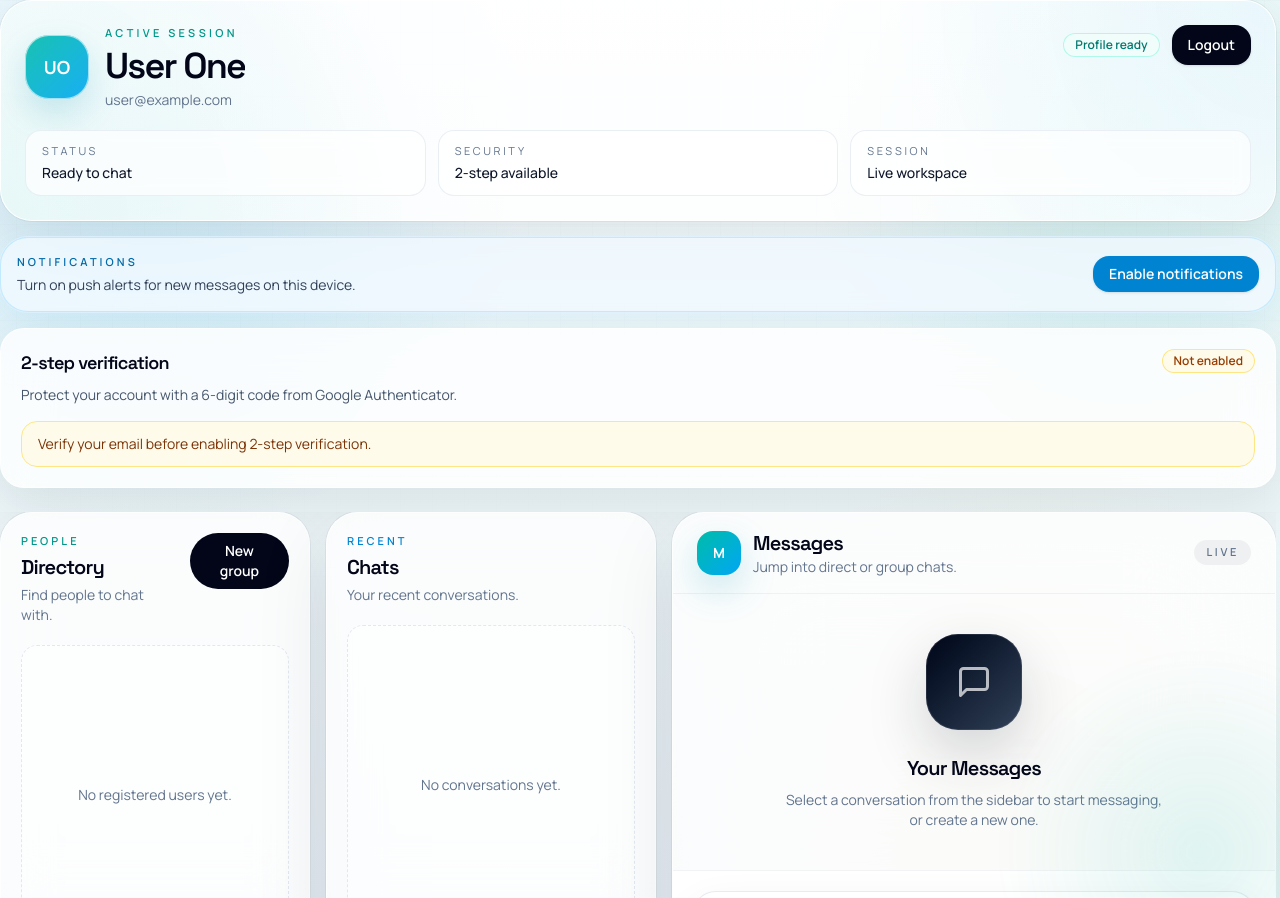
Test case: ChatClient › registers notifications only after the user clicks enable notifications
This screenshot has width=1280, height=898.
Step 1. Click the button "Enable notifications" → [1176, 274], box [1093, 256, 1259, 292]
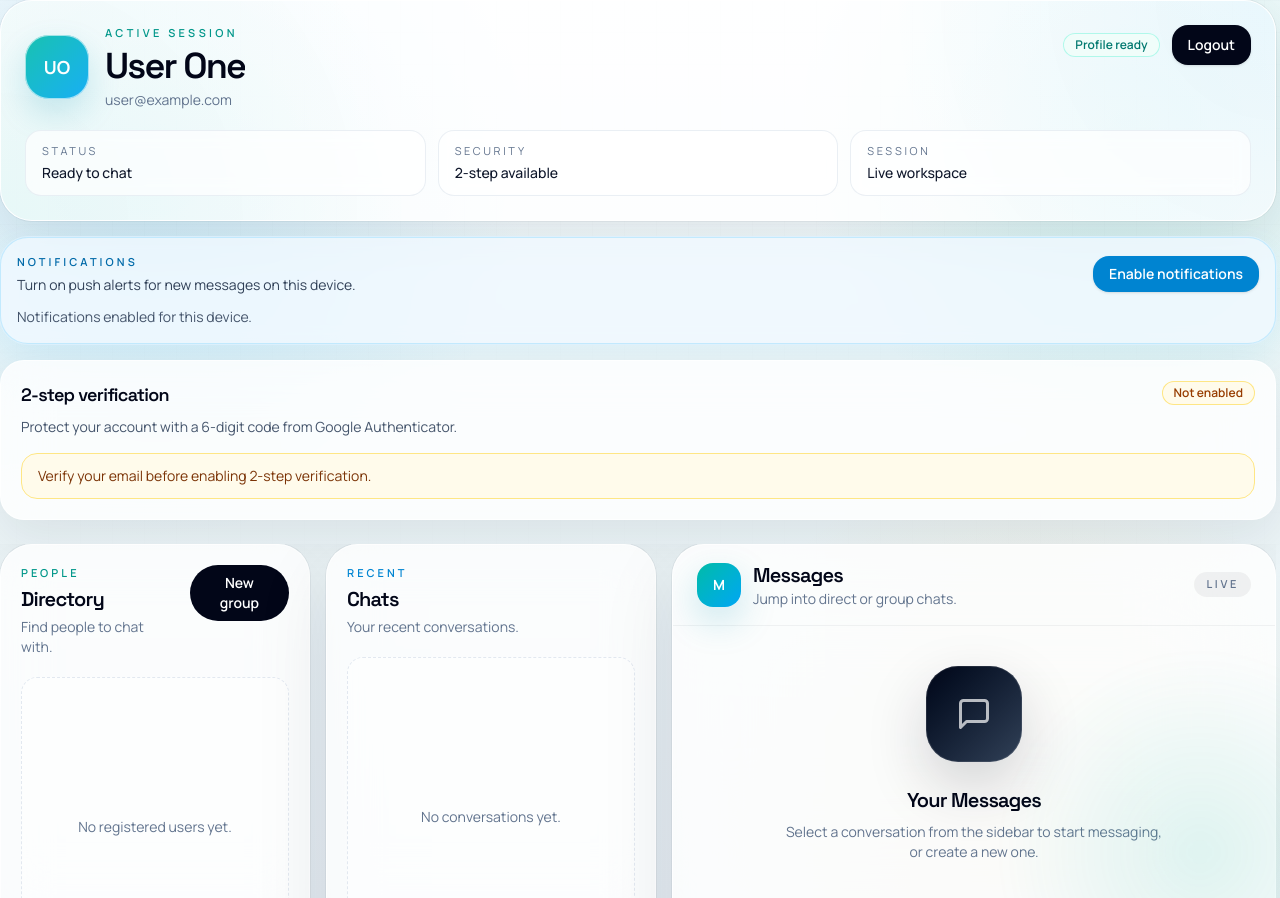
expect the text "Notifications enabled for this device." is shown: met, box [17, 306, 252, 326]
